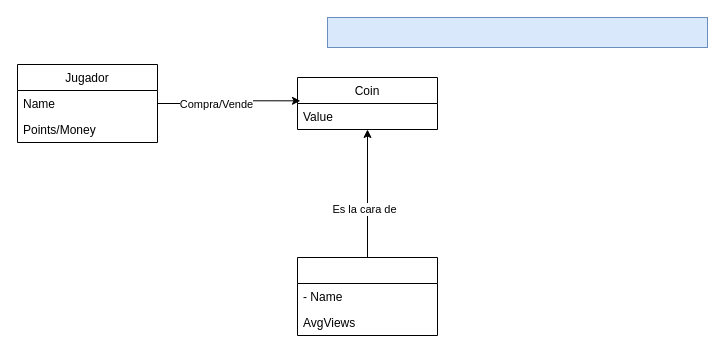
This 725x356 diagram has some shape labels left out. Here are the shapes that lost their labels. From the top down, the box of each, then its label:
(326, 16, 708, 48): I THOUGHT IT WAS GOING TO BE MORE COMPLEX THAN THIS
(296, 256, 438, 336): Streamer
